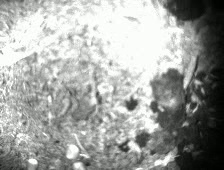corn: (63, 143, 82, 160), (24, 156, 40, 170), (69, 159, 89, 170)
